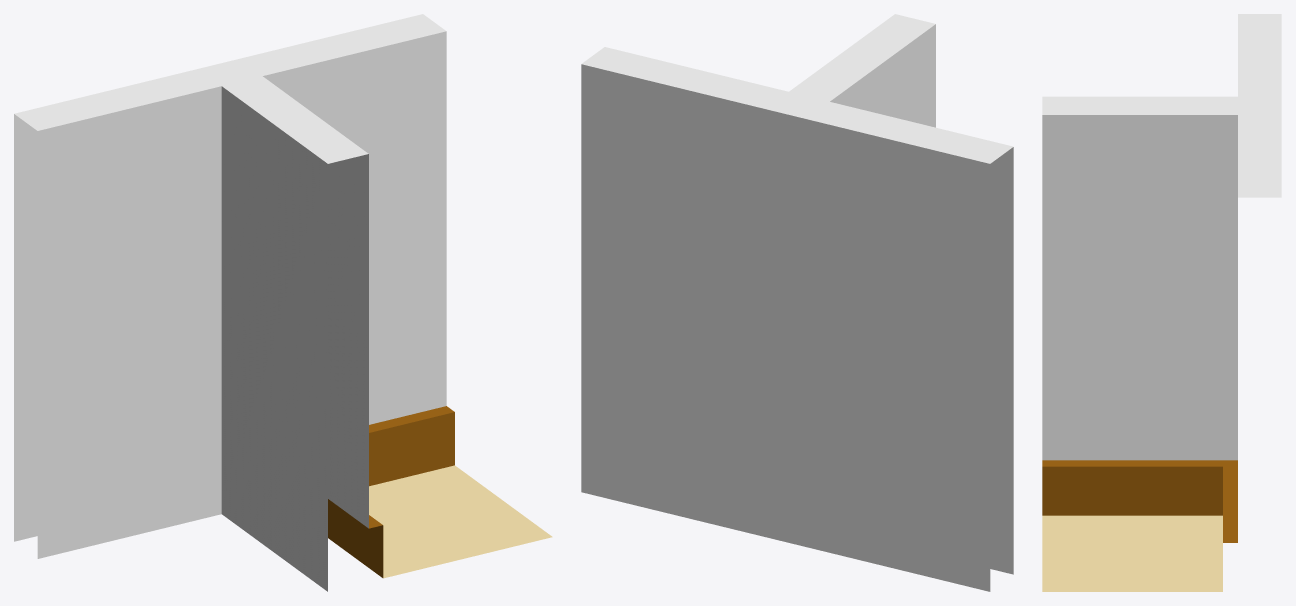
Rendered from E_Wall_T_Shape_Elevator_L.fbx.
3 views of the same model, side by side, from view 1: azimuth 30°, elevation 25°; view 2: azimuth 150°, elevation 25°; view 3: azimuth 270°, elevation 25° (orthographic). The views are drawn at different scales.
Parts seen in each view (by area): view 1: E_Wall_T_Shape_Elevator_L; view 2: E_Wall_T_Shape_Elevator_L; view 3: E_Wall_T_Shape_Elevator_L.
Boxes of the visible parts, x1,y1,x2,y2 form: E_Wall_T_Shape_Elevator_L: (14, 14, 552, 591); E_Wall_T_Shape_Elevator_L: (581, 14, 1013, 591); E_Wall_T_Shape_Elevator_L: (1042, 14, 1281, 591).
Size of the model in its own units: 200 by 200 by 110.
Materials: 1 (1 with a texture image).
